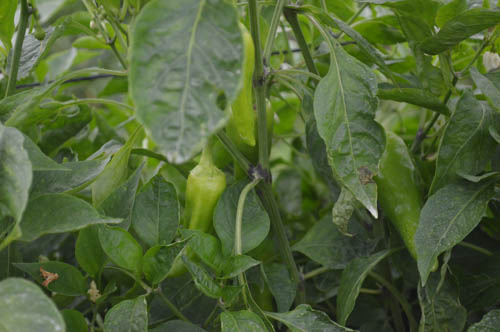ChiliPepper: (377, 134, 440, 268), (170, 170, 222, 276)
